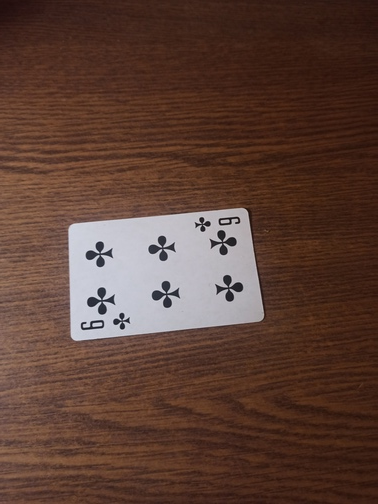sixclubs: (65, 207, 267, 342)
